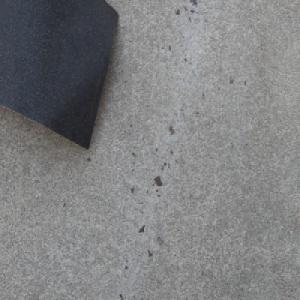PaintChip: (0, 0, 119, 151)
